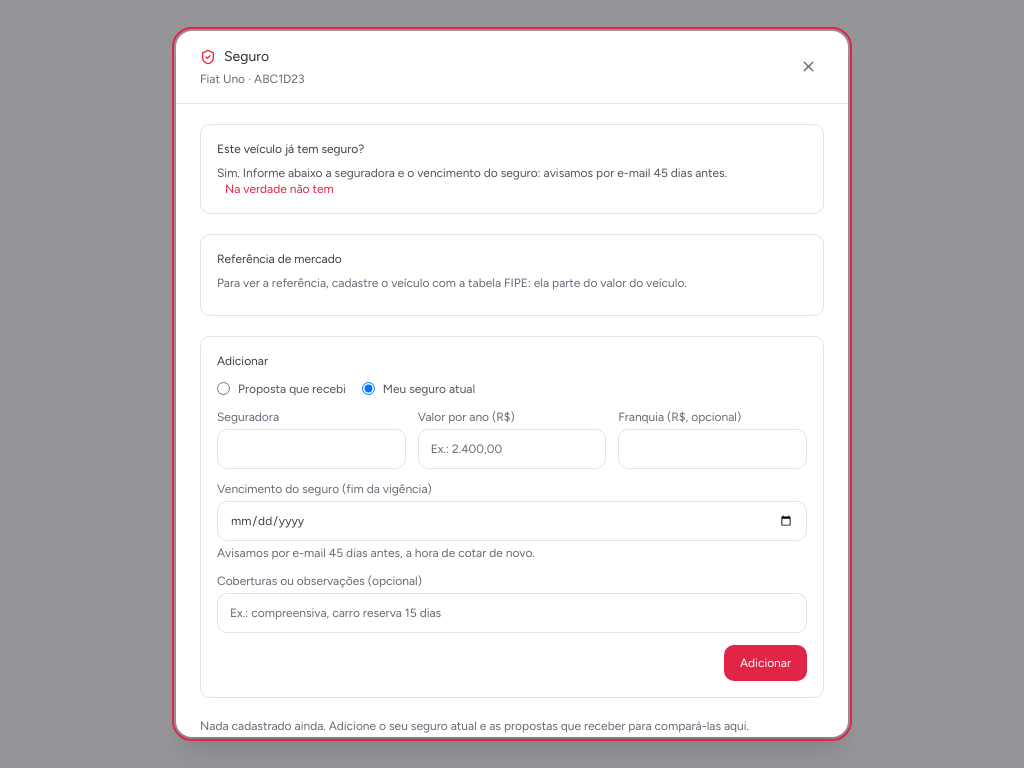
Test: SegurosModal: este veículo já tem seguro? › mostra o aviso do servidor quando não dá para marcar que não tem seguro
The image size is (1024, 768).
Click the button "Na verdade não tem" at (279, 189), box [225,181,334,197]
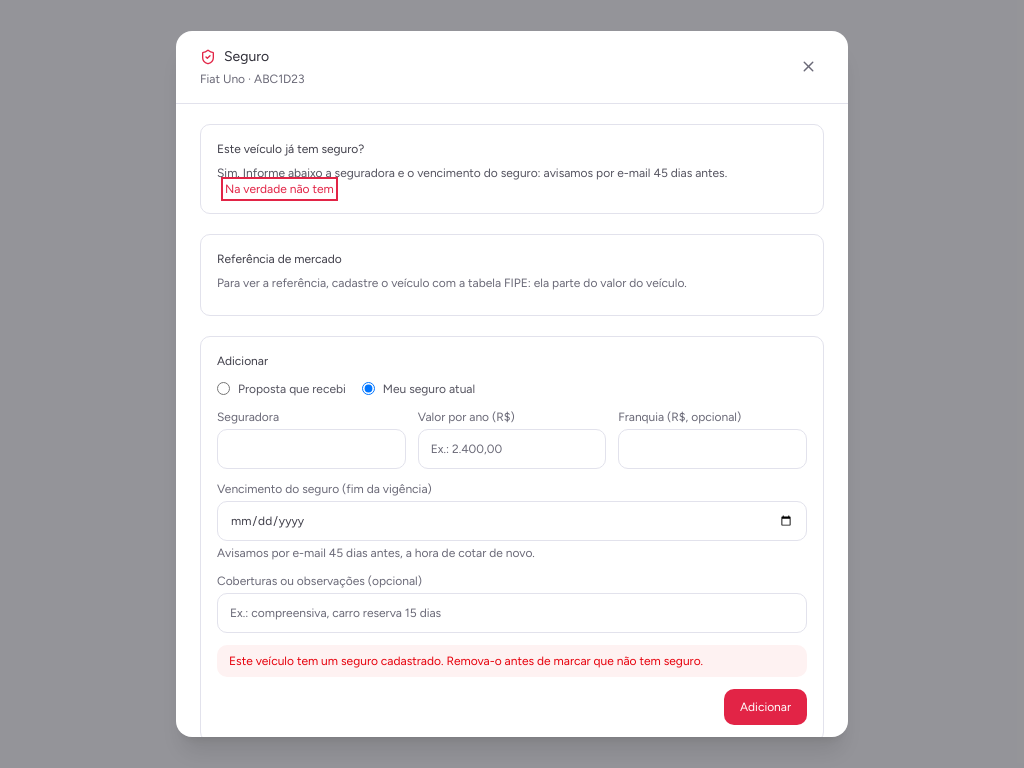
Expected: the message shows "Remova-o antes de marcar que não tem seguro", [229,654,703,668]
